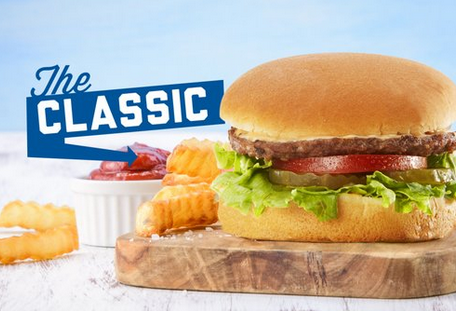soup: (211, 52, 456, 243), (132, 137, 223, 238)
